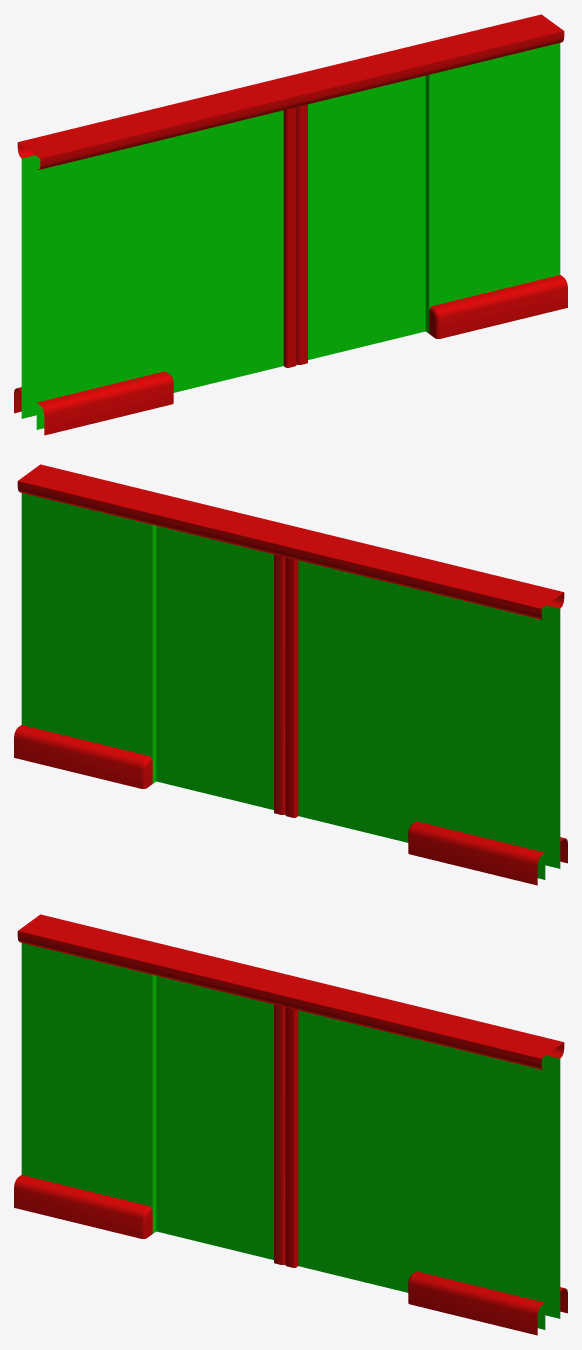
File: Door.fbx
3 views of the same model, one above another, from view 1: azimuth 30°, elevation 25°; view 2: azimuth 150°, elevation 25°; view 3: azimuth 330°, elevation 25° (orthographic).
Visible parts, largest first — view 1: Door Frame, Door Right, Door Left; view 2: Door Frame, Door Right, Door Left; view 3: Door Frame, Door Left, Door Right.
Part boxes in pixels (box(x1,y1,x2,y2)): Door Frame: box(14, 14, 567, 435); Door Right: box(296, 75, 425, 364); Door Left: box(167, 107, 296, 392); Door Frame: box(14, 464, 567, 885); Door Right: box(156, 525, 285, 814); Door Left: box(285, 557, 414, 842); Door Frame: box(14, 914, 567, 1335); Door Left: box(156, 975, 285, 1264); Door Right: box(285, 1007, 414, 1292).
Bounding box in the file's own units: 800 × 400 × 80.
